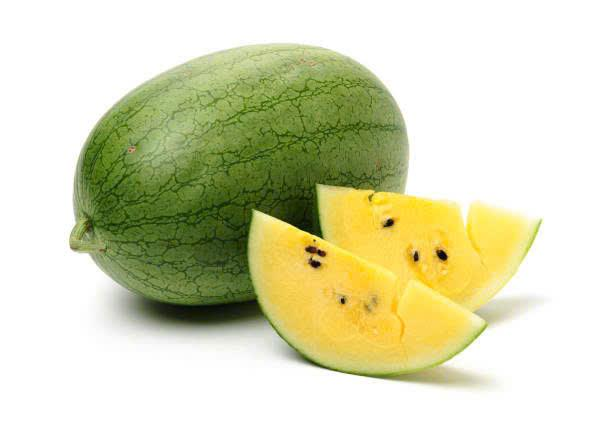watermelon: (65, 52, 456, 256), (248, 201, 524, 375)
